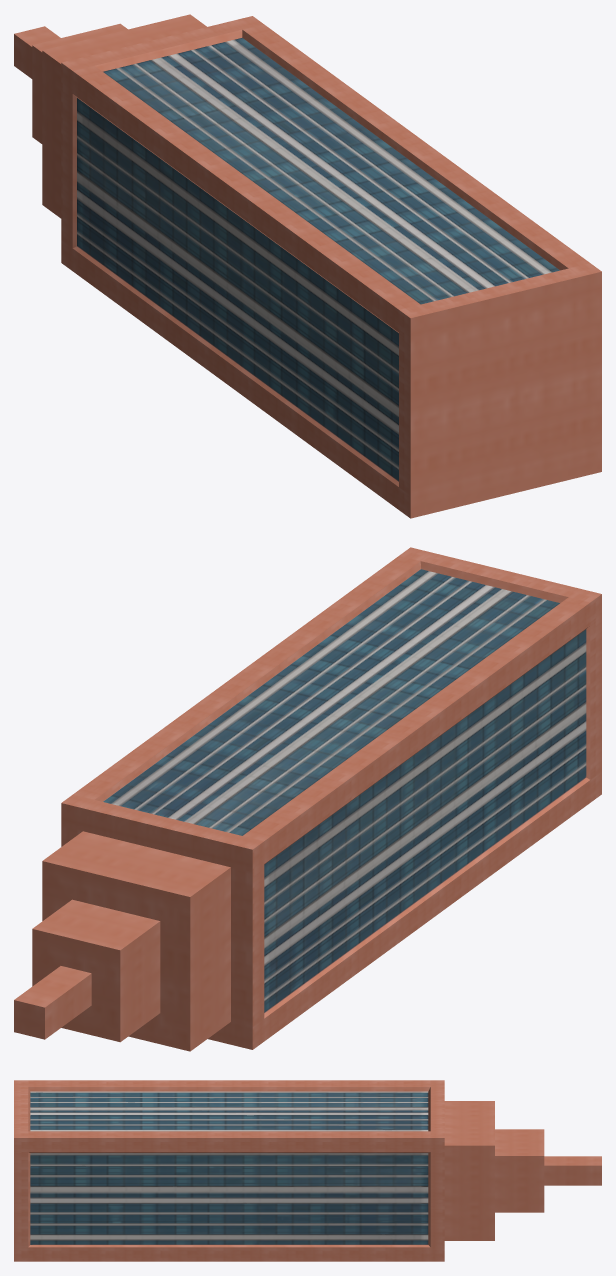
Rendered from buildings-comercial-06.fbx.
3 views of the same model, one above another, from view 1: azimuth 30°, elevation 25°; view 2: azimuth 150°, elevation 25°; view 3: azimuth 270°, elevation 25° (orthographic). The views are drawn at different scales.
Parts seen in each view (by area): view 1: buildings-comercial-06; view 2: buildings-comercial-06; view 3: buildings-comercial-06.
Boxes of the visible parts, box(x1,y1,x2,y2) form: buildings-comercial-06: box(14, 14, 601, 518); buildings-comercial-06: box(14, 547, 601, 1051); buildings-comercial-06: box(14, 1080, 601, 1261).
Size of the model in its own units: 3.79 by 3.79 by 16.34.
